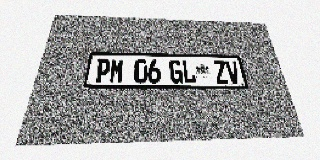0: (134, 59, 147, 83)
6: (148, 59, 161, 83)
G: (169, 60, 183, 83)
L: (182, 60, 196, 83)
M: (109, 59, 124, 83)
P: (94, 58, 111, 83)
V: (225, 61, 241, 84)
Z: (213, 61, 229, 84)
